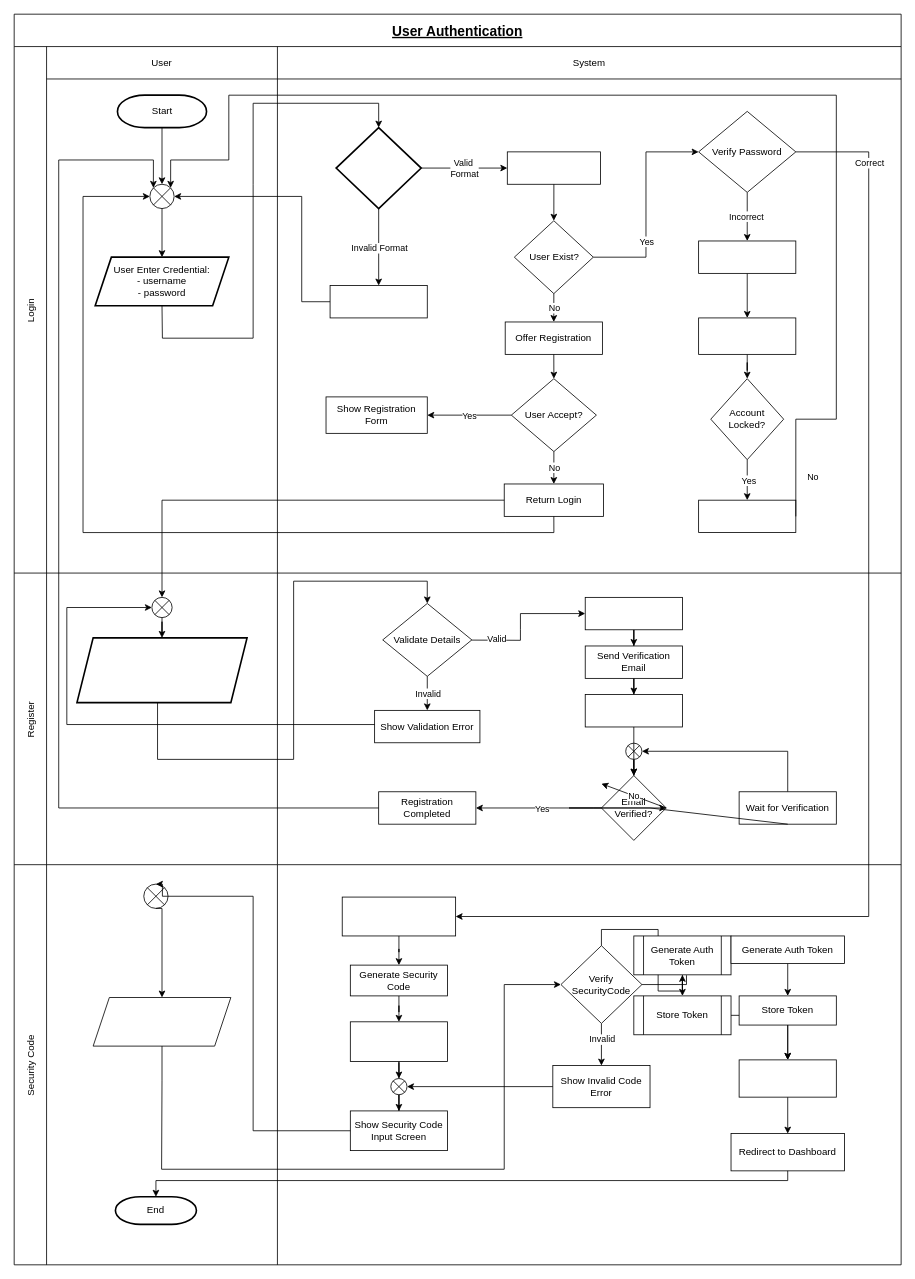
The diagram is 915 pixels wide and 1279 high, and some of its shapes have lost their labels. Each missing label, with the centre of its shape:
"Create Account" belongs at [633,613].
"Increment Failed Attempts" belongs at [747,335].
"Log Authentification Success" belongs at [787,1078].
"Query Database" belongs at [553,167].
"Reset Failed Attempts" belongs at [398,916].
"Send Code via SMS/Email" belongs at [399,1041].
"Show Account Locked" belongs at [747,516].
"Show Input Error" belongs at [378,301].
"Show invalid Credentials" belongs at [747,256].
"Show Verification Required" belongs at [633,710].
"User Enter Details Credential: - username - email - password - confirm password" belongs at [161,670].
"User Enter Security Code" belongs at [161,1021].
"Validate Input Format" belongs at [378,167].
